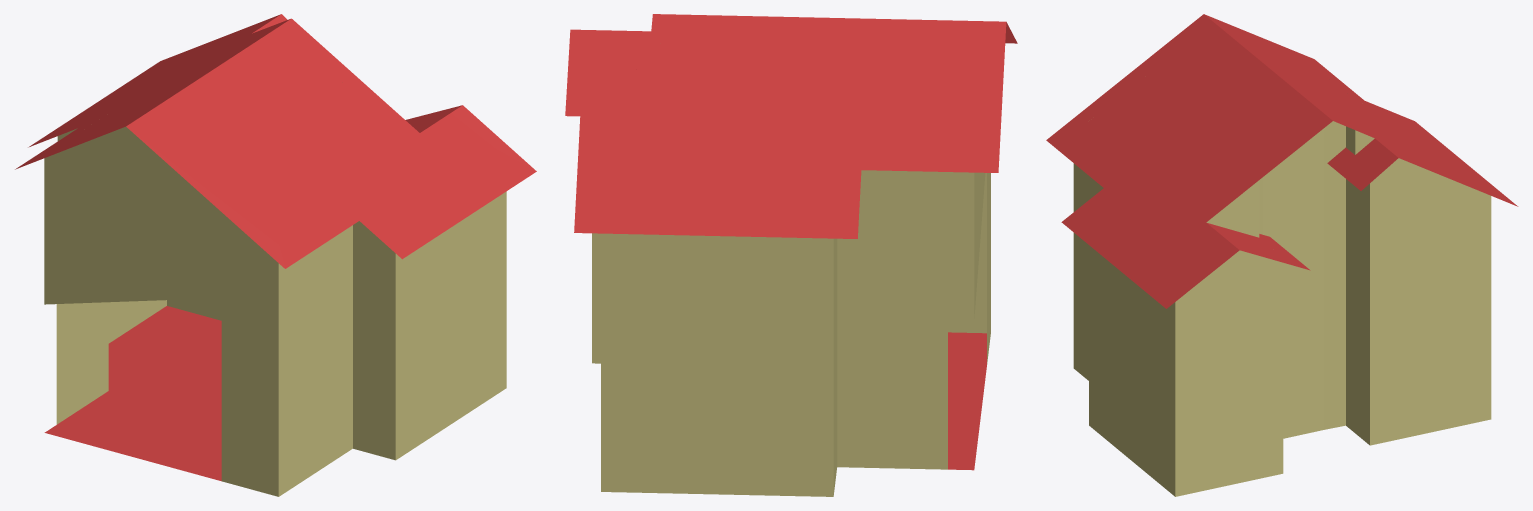
3 views of the same model, side by side, from view 1: azimuth 30°, elevation 25°; view 2: azimuth 150°, elevation 25°; view 3: azimuth 270°, elevation 25° (orthographic). The views are drawn at different scales.
Parts seen in each view (by area): view 1: group_5, group_3, group_6, group_4; view 2: group_5, group_3, group_6, group_7, group_4, group_9; view 3: group_5, group_3, group_9, group_13, group_4, group_7, group_12, group_11.
Boxes of the visible parts, <box> form: group_5: <box>44,126,506,496</box>; group_3: <box>15,14,536,259</box>; group_6: <box>44,306,221,481</box>; group_4: <box>71,19,535,268</box>; group_5: <box>601,170,990,496</box>; group_3: <box>574,14,1017,238</box>; group_6: <box>948,332,986,470</box>; group_7: <box>565,29,651,116</box>; group_4: <box>597,14,1005,191</box>; group_9: <box>592,233,600,363</box>; group_5: <box>1073,121,1491,496</box>; group_3: <box>1061,14,1518,308</box>; group_9: <box>1230,250,1283,484</box>; group_13: <box>1355,167,1389,445</box>; group_4: <box>1046,14,1469,307</box>; group_7: <box>1207,223,1309,270</box>; group_12: <box>1327,147,1398,190</box>; group_11: <box>1355,138,1397,190</box>.
Size of the model in its own units: 17.44 by 17.27 by 12.77.
